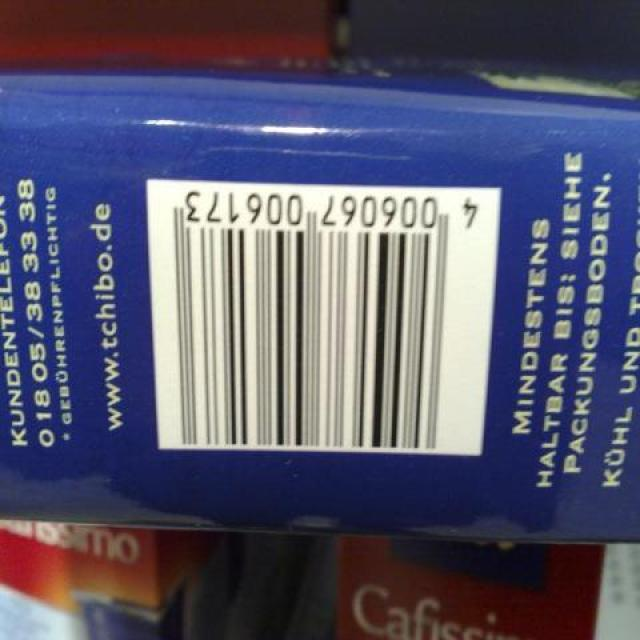Barcode: (146, 179, 502, 456)
